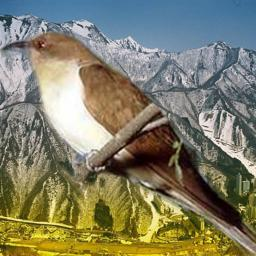Cuckoo: (0, 28, 256, 256)
